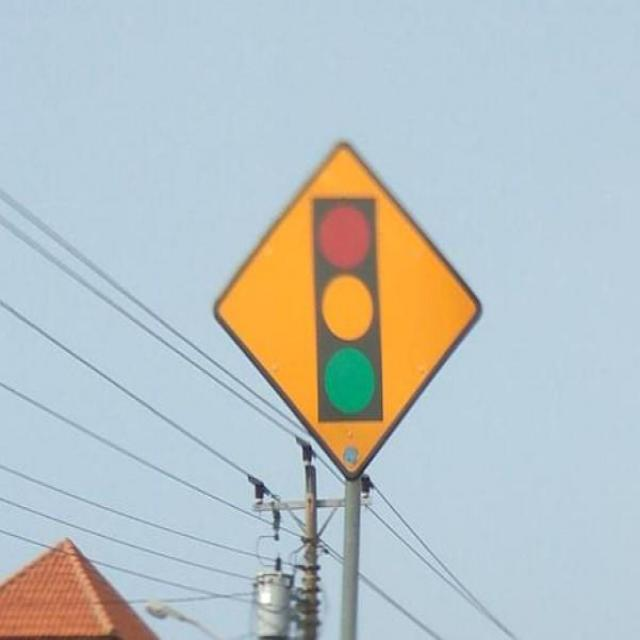traffic sign: (213, 144, 478, 473)
